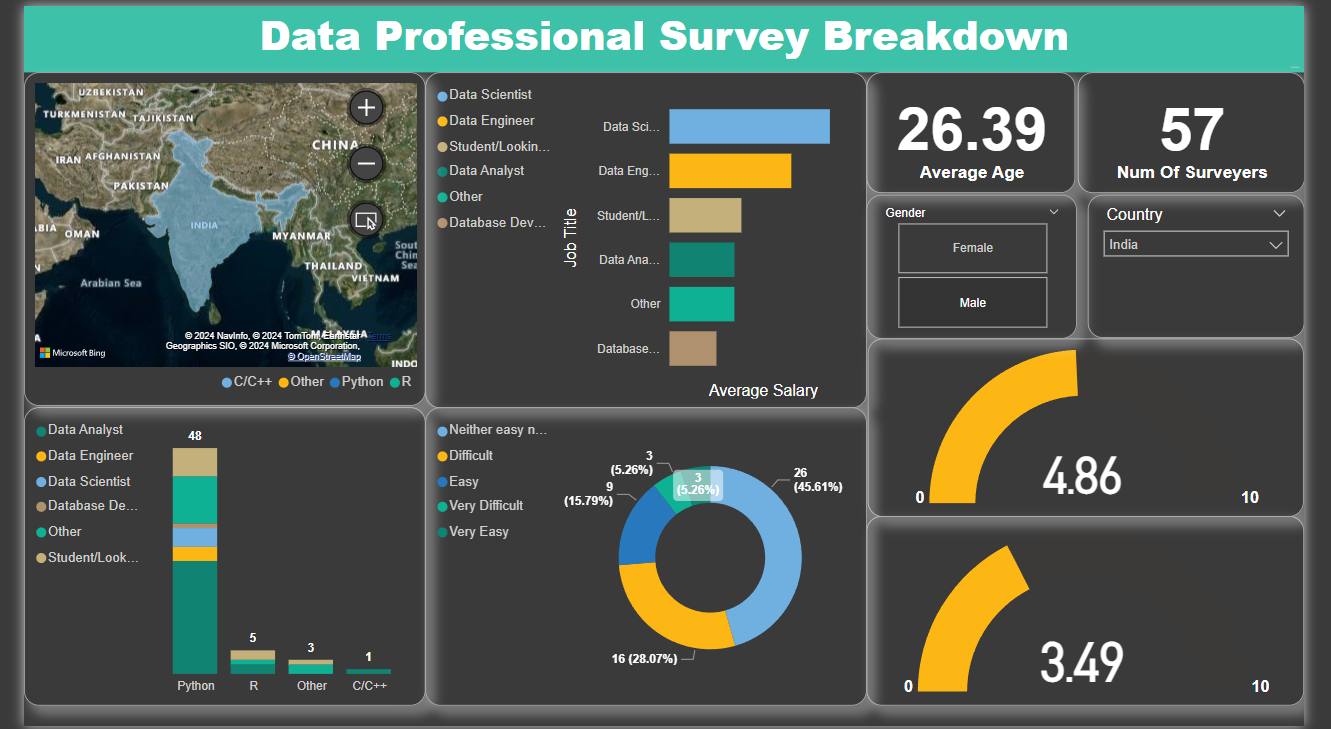

What the dashboard file says about the page in this screenshot:
{"tool":"powerbi","page":{"name":"Page 1","canvas":[1280,720],"ordinal":0},"visuals":[{"type":"textbox","title":"Data Professional Survey Breakdown","box":[0,0,1280.2,66.8],"z":0},{"type":"card","title":"to","fields":{"Values":["CountNonNull(Data Professional Survey.Unique ID)"]},"box":[1053.5,65.7,226.8,120.9],"z":1000},{"type":"card","fields":{"Values":["Avg(Data Professional Survey.Q10 - Current Age)"]},"box":[843.1,65.7,208.9,120.9],"z":2000},{"type":"barChart","fields":{"Category":["Data Professional Survey.Q1 - Which Title Best Fits your Current Role?.1"],"Y":["Avg(Data Professional Survey.Average Salary)"],"Series":["Data Professional Survey.Q1 - Which Title Best Fits your Current Role?.1"]},"box":[401.4,65.7,441.7,335.7],"z":3000},{"type":"columnChart","title":"Favorite Programming Language","fields":{"Y":["CountNonNull(Data Professional Survey.Unique ID)"],"Category":["Data Professional Survey.Q5 - Favorite Programming Language.1"],"Series":["Data Professional Survey.Q1 - Which Title Best Fits your Current Role?.1"]},"box":[0,401.4,401.4,298.4],"z":4000},{"type":"filledMap","title":"Average Salary by  Country","fields":{"Category":["Data Professional Survey.Q11 - Which Country do you live in?.1"],"Series":["Data Professional Survey.Q5 - Favorite Programming Language.1"]},"box":[0,66.7,401.7,333.3],"z":5000},{"type":"gauge","title":"Happy With Salary","fields":{"Y":["Avg(Data Professional Survey.Q6 - How Happy are you in your Current Position with the following? (Salary))"],"MinValue":["Min(Data Professional Survey.Q6 - How Happy are you in your Current Position with the following? (Salary))"],"MaxValue":["Max(Data Professional Survey.Q6 - How Happy are you in your Current Position with the following? (Salary))"]},"box":[843,510.2,437.8,189.3],"z":6000},{"type":"gauge","title":"Happy With Work life Balance","fields":{"Y":["Avg(Data Professional Survey.Q6 - How Happy are you in your Current Position with the following? (Work/Life Balance))"],"MinValue":["Min(Data Professional Survey.Q6 - How Happy are you in your Current Position with the following? (Work/Life Balance))1"],"MaxValue":["Max(Data Professional Survey.Q6 - How Happy are you in your Current Position with the following? (Work/Life Balance))2"]},"box":[843.9,332.1,436.4,178.4],"z":7000},{"type":"donutChart","title":"Average Salary by Gender","fields":{"Category":["Data Professional Survey.Q7 - How difficult was it for you to break into Data?"],"Y":["CountNonNull(Data Professional Survey.Q7 - How difficult was it for you to break into Data?)"]},"box":[401.4,401.4,441.7,298.4],"z":8000},{"type":"slicer","fields":{"Values":["Data Professional Survey.Q11 - Which Country do you live in?.1"]},"box":[1063.3,188.3,216.7,143.3],"z":9000},{"type":"slicer","fields":{"Values":["Data Professional Survey.Q9 - Male/Female?"]},"box":[842.5,188.5,210.6,144.1],"z":10000}]}

Visuals, with their boxes in screenshot pixels (x1, y1, x2, y2), scaled from the page's 1280x720 canvas onto the 1331x729 screenshot:
"Data Professional Survey Breakdown" textbox: (0, 0, 1330, 68)
"to" card: (1095, 67, 1330, 189)
card - Avg(Data Professional Survey.Q10 - Current Age): (877, 67, 1094, 189)
barChart - Data Professional Survey.Q1 - Which Title Best Fits your Current Role?.1 x Avg(Data Professional Survey.Average Salary): (417, 67, 877, 406)
"Favorite Programming Language" columnChart: (0, 406, 417, 709)
"Average Salary by  Country" filledMap: (0, 68, 418, 405)
"Happy With Salary" gauge: (877, 517, 1330, 708)
"Happy With Work life Balance" gauge: (878, 336, 1330, 517)
"Average Salary by Gender" donutChart: (417, 406, 877, 709)
slicer - Data Professional Survey.Q11 - Which Country do you live in?.1: (1106, 191, 1330, 336)
slicer - Data Professional Survey.Q9 - Male/Female?: (876, 191, 1095, 337)
